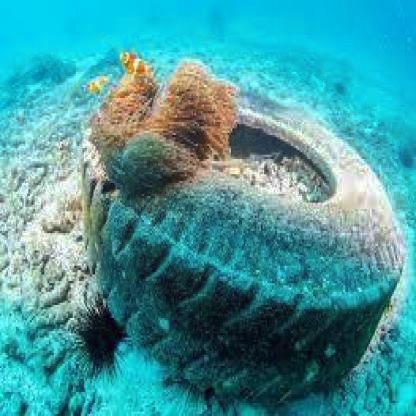tire: (89, 61, 404, 407)
